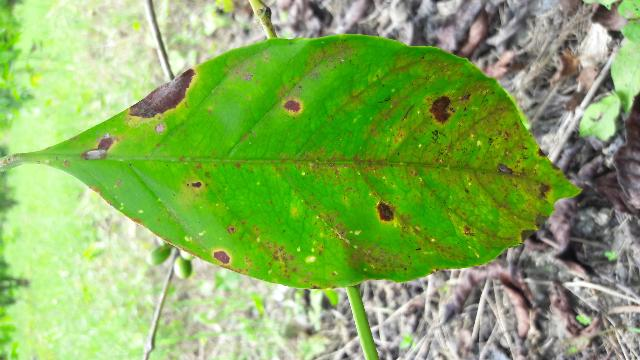rust_level_4: (41, 39, 572, 283)
